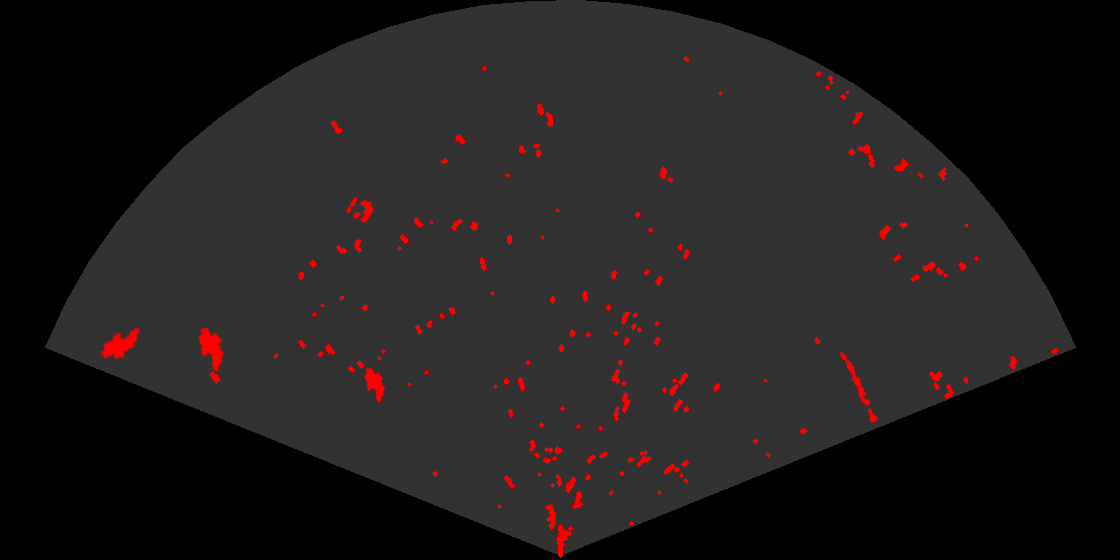AUV: (99, 326, 142, 361), (196, 325, 226, 374), (362, 366, 387, 405)
ball: (345, 195, 375, 225)
chain: (838, 350, 880, 427)
